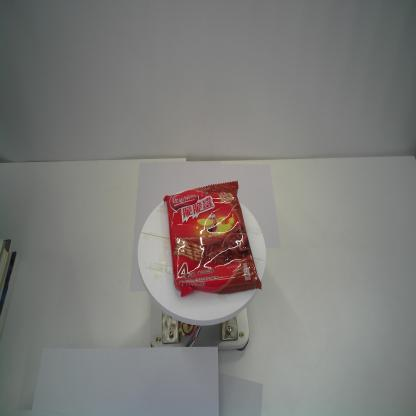Dessert: (162, 180, 263, 299)
